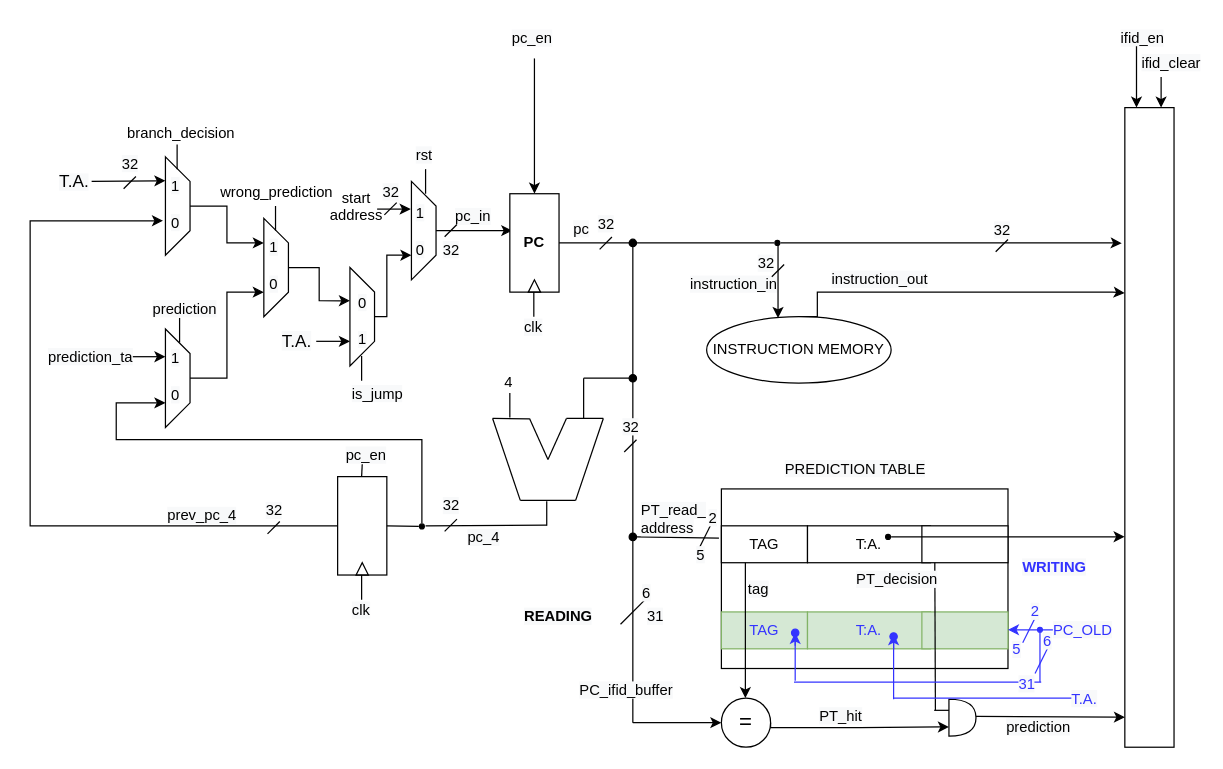
The diagram is 1223 pixels wide and 769 high, and some of its shapes have lost their labels. The centre of each missing label's shape, as x and y in pixels:
b_dec: pixel 964 630
IF/ID: pixel 1149 426
PT_dec: pixel 964 544
